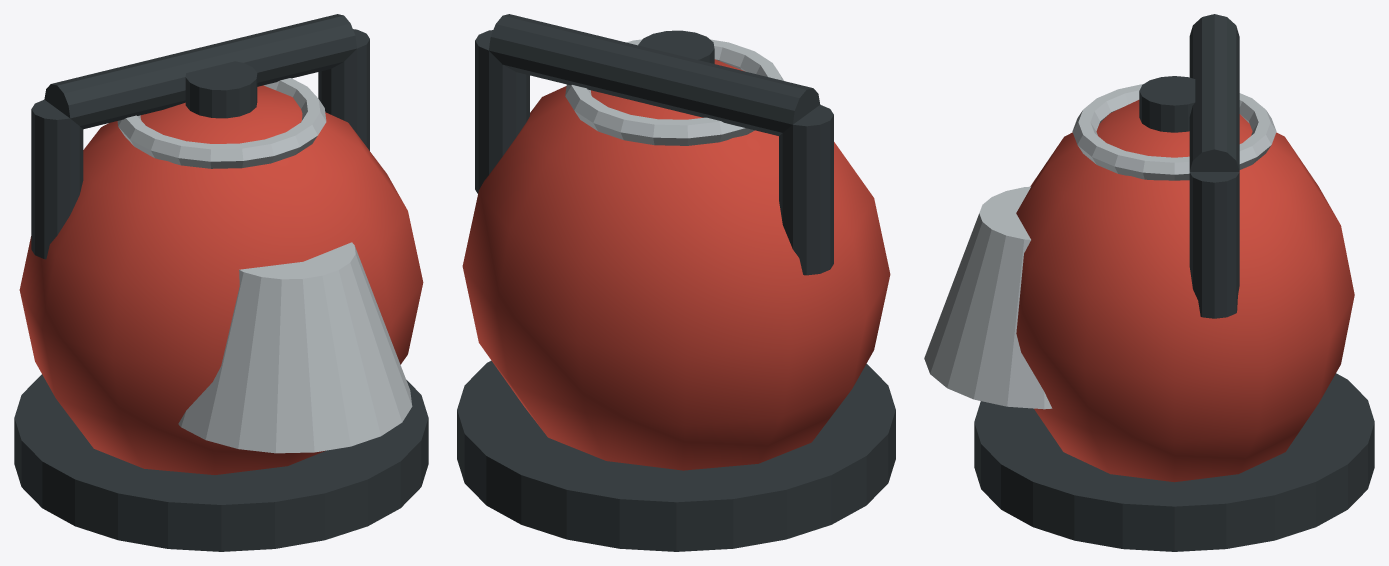
The model's file is electric_kettle_red.glb.
3 renders of one model, left to right at view 1: azimuth 30°, elevation 25°; view 2: azimuth 150°, elevation 25°; view 3: azimuth 270°, elevation 25°, orthographic. The views are drawn at different scales.
Parts seen in each view (by area): view 1: kettle body, base, spout, handle top, lid rim, handle, handle.001, lid button; view 2: kettle body, base, handle top, handle, lid rim, handle.001, lid button; view 3: kettle body, base, spout, handle top, handle.001, lid rim, lid button.
Boxes of the visible parts, box(x1,y1,x2,y2) form: kettle body: box(19, 85, 423, 474); base: box(14, 374, 428, 551); spout: box(178, 242, 412, 453); handle top: box(44, 14, 356, 129); lid rim: box(117, 78, 326, 168); handle: box(31, 99, 83, 259); handle.001: box(318, 29, 369, 150); lid button: box(185, 61, 257, 118); kettle body: box(462, 59, 890, 470); base: box(457, 360, 895, 551); handle top: box(489, 14, 820, 135); handle: box(779, 104, 833, 275); lid rim: box(565, 39, 783, 145); handle.001: box(475, 30, 529, 193); lid button: box(638, 30, 714, 63); kettle body: box(1016, 100, 1354, 482); base: box(974, 373, 1374, 551); spout: box(924, 186, 1052, 409); handle top: box(1189, 14, 1239, 171); handle.001: box(1189, 172, 1239, 318); lid rim: box(1072, 84, 1276, 180); lid button: box(1139, 76, 1195, 132).
Size of the model in its own units: 0.4 by 0.435 by 0.45.
